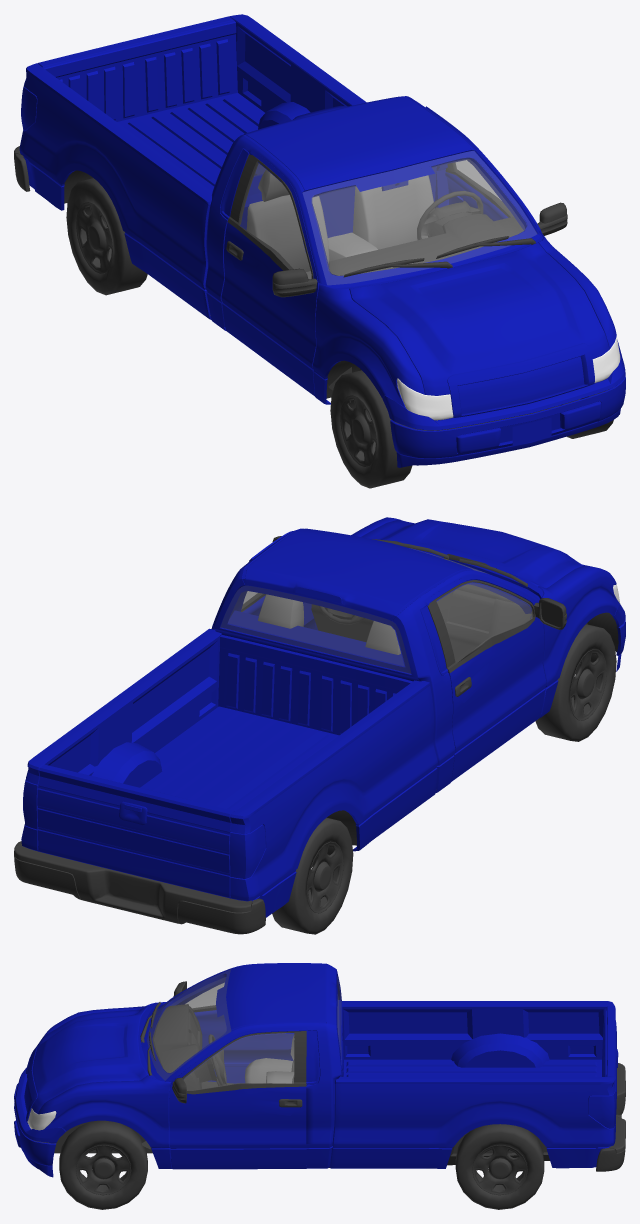
The model's file is arabayeni.fbx.
The picture shows the model from 3 angles, top to bottom: view 1: azimuth 30°, elevation 25°; view 2: azimuth 150°, elevation 25°; view 3: azimuth 270°, elevation 25°; orthographic projection. The views are drawn at different scales.
Visible parts, largest first — view 1: Object024, Object033, Object040, Object048, Object050, Object014, Object038, Object034, Object044, Object037, Object043, Object036 (+1 smaller); view 2: Object024, Object033, Object040, Object048, Object050, Object014, Object038, Object043, Object034; view 3: Object024, Object034, Object040, Object047, Object049, Object033, Object015, Object037, Object044.
Boxes of the visible parts, left/top/right/bottom form: Object024: left=14, top=14, right=625, bottom=467; Object033: left=221, top=149, right=318, bottom=395; Object040: left=117, top=93, right=310, bottom=191; Object048: left=330, top=370, right=412, bottom=488; Object050: left=66, top=178, right=147, bottom=295; Object014: left=352, top=175, right=433, bottom=249; Object038: left=246, top=169, right=329, bottom=271; Object034: left=425, top=106, right=541, bottom=232; Object044: left=397, top=336, right=620, bottom=420; Object037: left=417, top=190, right=483, bottom=239; Object043: left=272, top=268, right=317, bottom=297; Object036: left=328, top=232, right=377, bottom=263; Object024: left=14, top=517, right=625, bottom=934; Object033: left=425, top=575, right=546, bottom=781; Object040: left=91, top=706, right=338, bottom=811; Object048: left=535, top=624, right=616, bottom=741; Object050: left=272, top=817, right=353, bottom=934; Object014: left=258, top=594, right=303, bottom=628; Object038: left=365, top=621, right=400, bottom=654; Object043: left=534, top=598, right=566, bottom=629; Object034: left=241, top=531, right=315, bottom=628; Object024: left=14, top=963, right=625, bottom=1177; Object034: left=169, top=1027, right=306, bottom=1169; Object040: left=343, top=1033, right=601, bottom=1076; Object047: left=59, top=1120, right=147, bottom=1209; Object049: left=455, top=1124, right=544, bottom=1209; Object033: left=184, top=973, right=294, bottom=1083; Object015: left=245, top=1058, right=292, bottom=1083; Object037: left=193, top=1034, right=226, bottom=1085; Object044: left=28, top=1108, right=56, bottom=1130.
Size of the model in its own units: 185 by 143 by 448.
